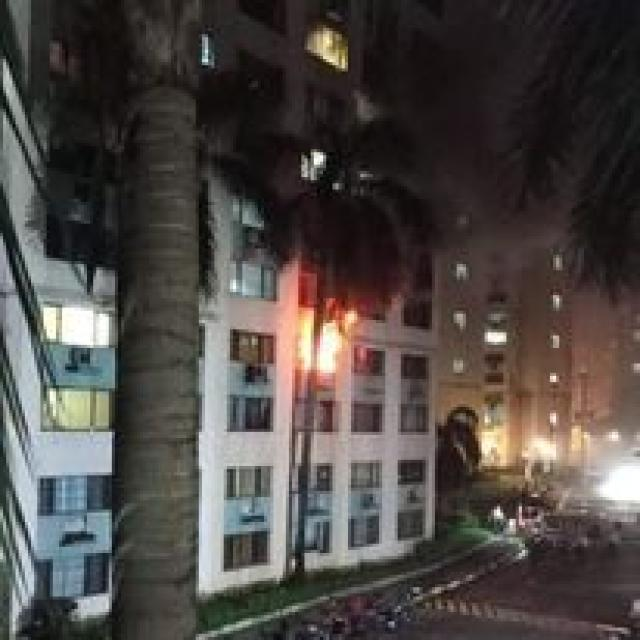Fire: (288, 292, 364, 382)
